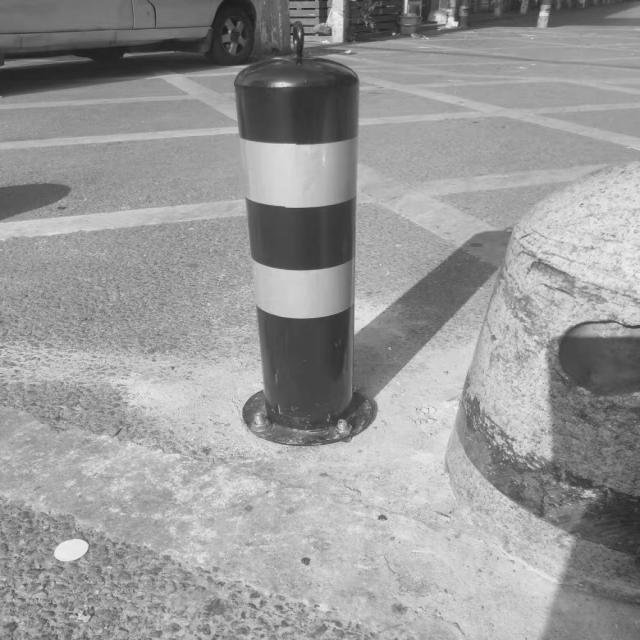ash bin: (396, 13, 421, 35)
car: (0, 0, 258, 65)
warning_column: (226, 56, 380, 438), (532, 1, 554, 27), (457, 0, 470, 26)
